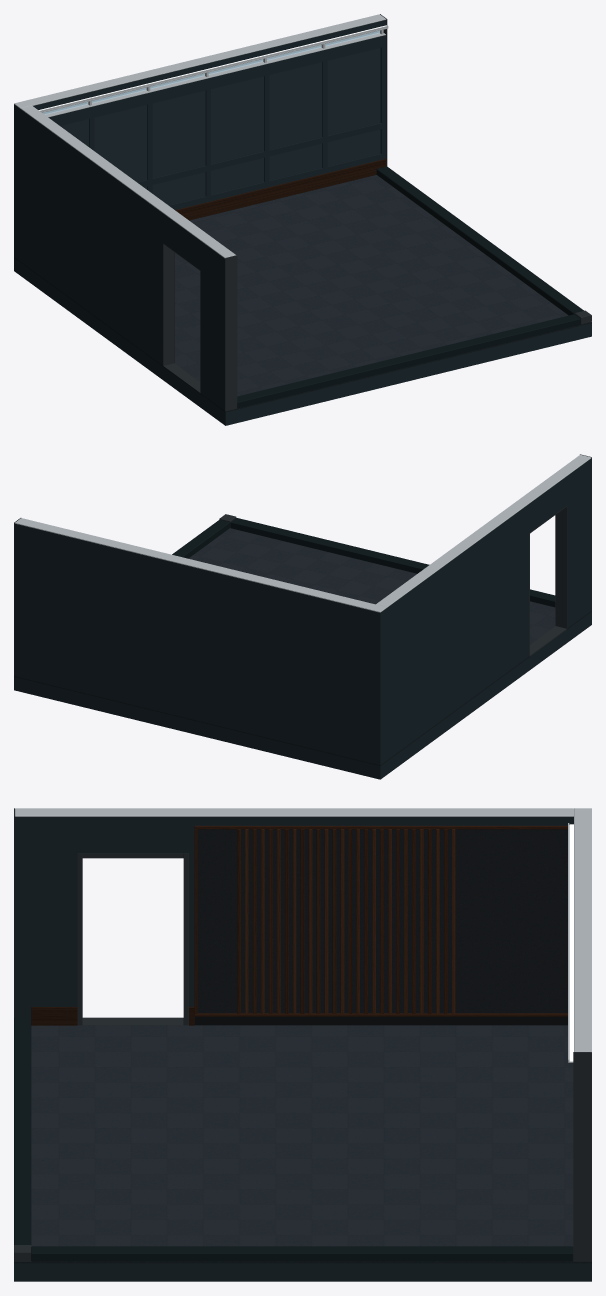
File: Office_Boardroom_Shell.glb
3 views of the same model, one above another, from view 1: azimuth 30°, elevation 25°; view 2: azimuth 150°, elevation 25°; view 3: azimuth 270°, elevation 25° (orthographic). The views are drawn at different scales.
Parts seen in each view (by area): view 1: Floor_Carpet_AcousticCharcoal, WW_Section_North, Floor_SubSlab_Slate, Curb_South_Z3.88, NW_Panel_2_Upper, NW_Panel_4_Upper, NW_Panel_5_Upper, NW_Rail_Top, NW_Panel_3_Upper, WW_Pier_South, Curb_East_X3.88, NW_Panel_1_Upper (+19 smaller); view 2: NW_Core_Lower, WW_Section_North, Floor_Carpet_AcousticCharcoal, Floor_SubSlab_Slate, WW_Pier_South, NW_Core_Upper, NW_Core_Transom_Recess, NW_Cap_Trim_Aluminum, Curb_South_Z3.88, WW_Cap_Trim_Aluminum, Door_Jamb_South, WW_Lintel (+3 smaller); view 3: Floor_Carpet_AcousticCharcoal, Slat_Felt_Backing, WW_Pier_South, Floor_SubSlab_Slate, Curb_East_X3.88, WW_Cap_Trim_Aluminum, WW_Section_North, NW_Cap_Trim_Aluminum, Curb_South_Z3.88, EndCap_NorthWall_East, WW_Lintel, WW_Shadow_Reveal_Plinth (+38 smaller).
Boxes of the visible parts, x1=… form: Floor_Carpet_AcousticCharcoal: x1=175, y1=175, x2=568, y2=396; WW_Section_North: x1=20, y1=109, x2=162, y2=365; Floor_SubSlab_Slate: x1=14, y1=258, x2=591, y2=425; Curb_South_Z3.88: x1=237, y1=314, x2=580, y2=408; NW_Panel_2_Upper: x1=152, y1=90, x2=205, y2=178; NW_Panel_4_Upper: x1=269, y1=62, x2=322, y2=149; NW_Panel_5_Upper: x1=327, y1=48, x2=380, y2=135; NW_Rail_Top: x1=48, y1=35, x2=385, y2=125; NW_Panel_3_Upper: x1=211, y1=76, x2=263, y2=163; WW_Pier_South: x1=201, y1=241, x2=225, y2=410; Curb_East_X3.88: x1=376, y1=166, x2=583, y2=315; NW_Panel_1_Upper: x1=94, y1=105, x2=147, y2=182; NW_Core_Lower: x1=14, y1=539, x2=385, y2=765; WW_Section_North: x1=386, y1=504, x2=529, y2=760; Floor_Carpet_AcousticCharcoal: x1=188, y1=528, x2=555, y2=644; Floor_SubSlab_Slate: x1=14, y1=611, x2=591, y2=779; WW_Pier_South: x1=567, y1=458, x2=591, y2=628; NW_Core_Upper: x1=14, y1=523, x2=385, y2=620; NW_Core_Transom_Recess: x1=14, y1=531, x2=382, y2=628; NW_Cap_Trim_Aluminum: x1=15, y1=518, x2=386, y2=612; Curb_South_Z3.88: x1=230, y1=518, x2=555, y2=607; WW_Cap_Trim_Aluminum: x1=376, y1=454, x2=591, y2=607; Door_Jamb_South: x1=556, y1=505, x2=567, y2=628; WW_Lintel: x1=529, y1=476, x2=567, y2=532; Floor_Carpet_AcousticCharcoal: x1=31, y1=1025, x2=573, y2=1246; Slat_Felt_Backing: x1=194, y1=825, x2=567, y2=1013; WW_Pier_South: x1=15, y1=817, x2=81, y2=1017; Floor_SubSlab_Slate: x1=14, y1=1263, x2=591, y2=1281; Curb_East_X3.88: x1=31, y1=1246, x2=573, y2=1261; WW_Cap_Trim_Aluminum: x1=15, y1=808, x2=573, y2=816; WW_Section_North: x1=185, y1=817, x2=573, y2=1006; NW_Cap_Trim_Aluminum: x1=574, y1=808, x2=591, y2=1051; Curb_South_Z3.88: x1=14, y1=1017, x2=31, y2=1244; EndCap_NorthWall_East: x1=573, y1=1052, x2=591, y2=1261; WW_Lintel: x1=81, y1=817, x2=185, y2=853; WW_Shadow_Reveal_Plinth: x1=194, y1=1016, x2=567, y2=1025.
Size of the model in its own units: 8 by 3.5 by 8.
15 materials, 6 textured.
